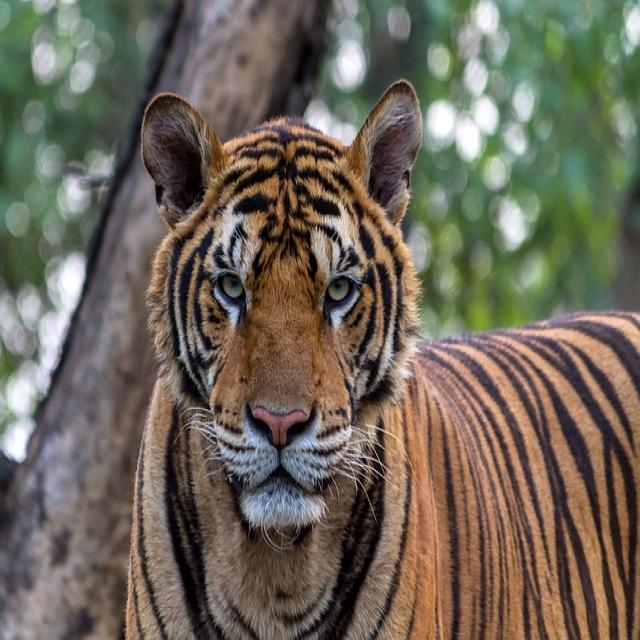Carnivorous: (122, 80, 640, 640)
